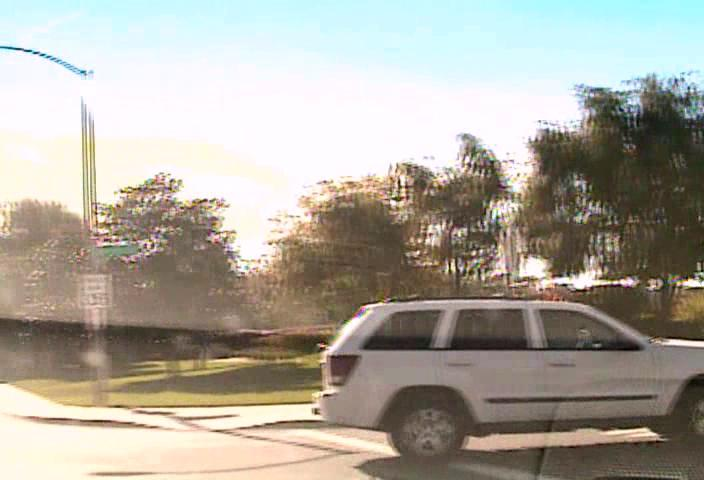speedLimit35: (75, 271, 111, 311)
